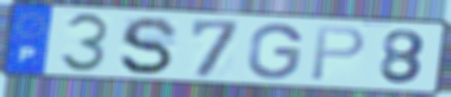3: (56, 11, 112, 76)
7: (187, 16, 243, 80)
8: (378, 29, 426, 86)
G: (244, 22, 305, 81)
P: (307, 25, 368, 83)
S: (117, 15, 181, 77)
